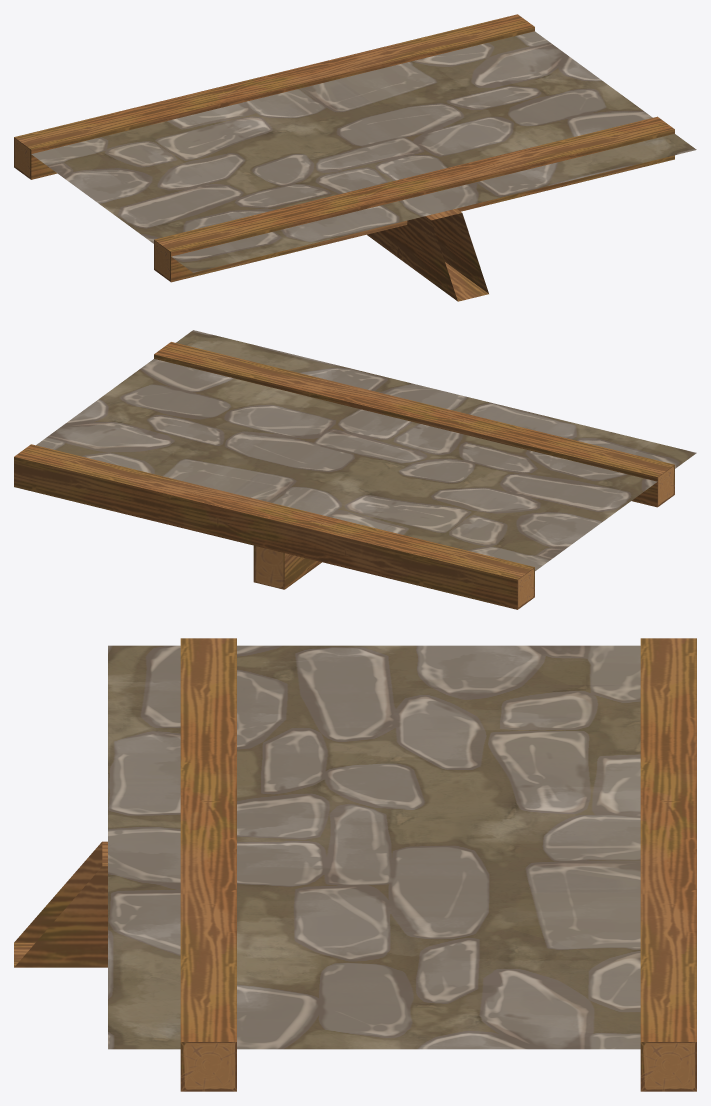
File: Overhang_RoofIncline_UnevenBricks.gltf
3 views of the same model, one above another, from view 1: azimuth 30°, elevation 25°; view 2: azimuth 150°, elevation 25°; view 3: azimuth 270°, elevation 25° (orthographic). The views are drawn at different scales.
Visible parts, largest first — view 1: Overhang_RoofIncline_UnevenBricks; view 2: Overhang_RoofIncline_UnevenBricks; view 3: Overhang_RoofIncline_UnevenBricks.
Part boxes in pixels (left/top/right/bottom): Overhang_RoofIncline_UnevenBricks: left=14, top=14, right=696, bottom=301; Overhang_RoofIncline_UnevenBricks: left=14, top=330, right=696, bottom=609; Overhang_RoofIncline_UnevenBricks: left=14, top=638, right=696, bottom=1091.
Bounding box in the file's own units: 2 × 0.2659 × 1.43.
2 materials, 2 textured.
